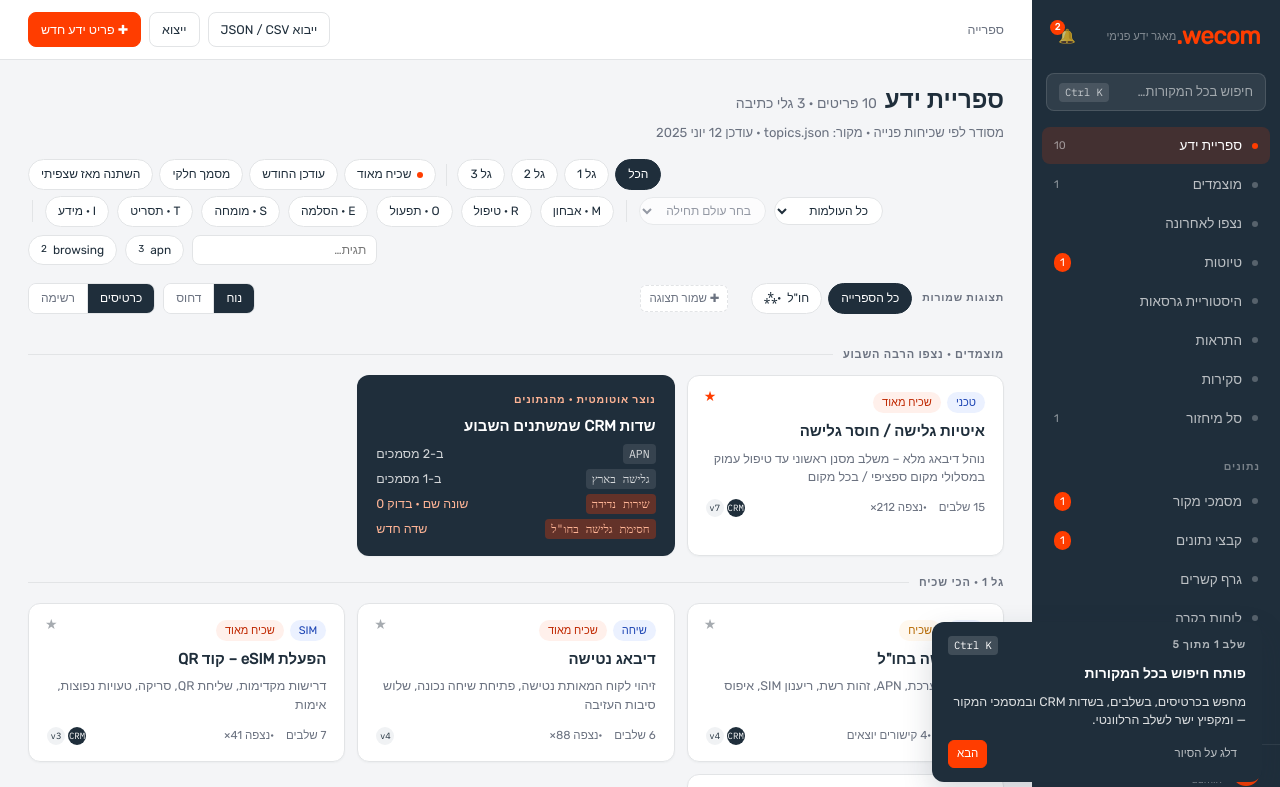
Scenario: <Palette> › shows the result stat footer
The image size is (1280, 787).
Type keys "{Control>}k{/Control}"
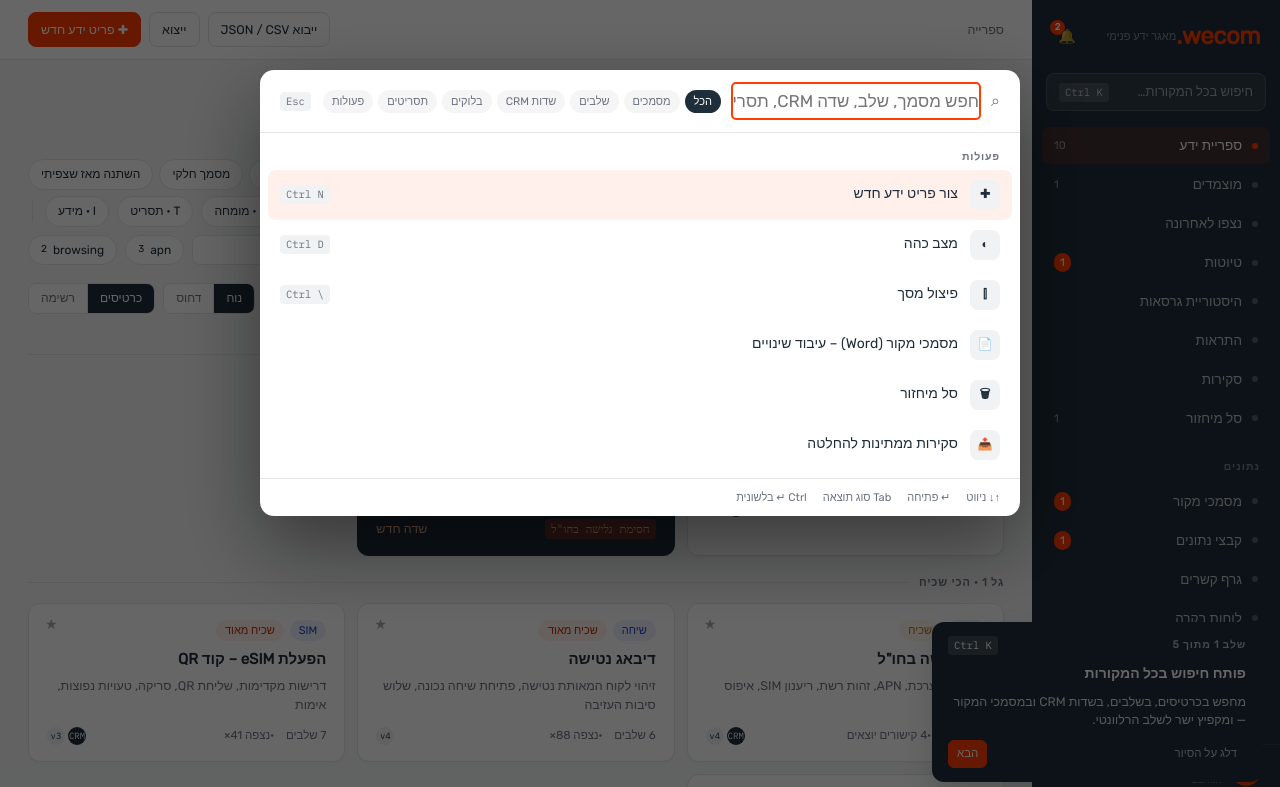
In the field with placeholder "חפש מסמך, שלב, שדה CRM, תסריט או פעולה…": (856, 101) [733,84,979,118], type "sim"
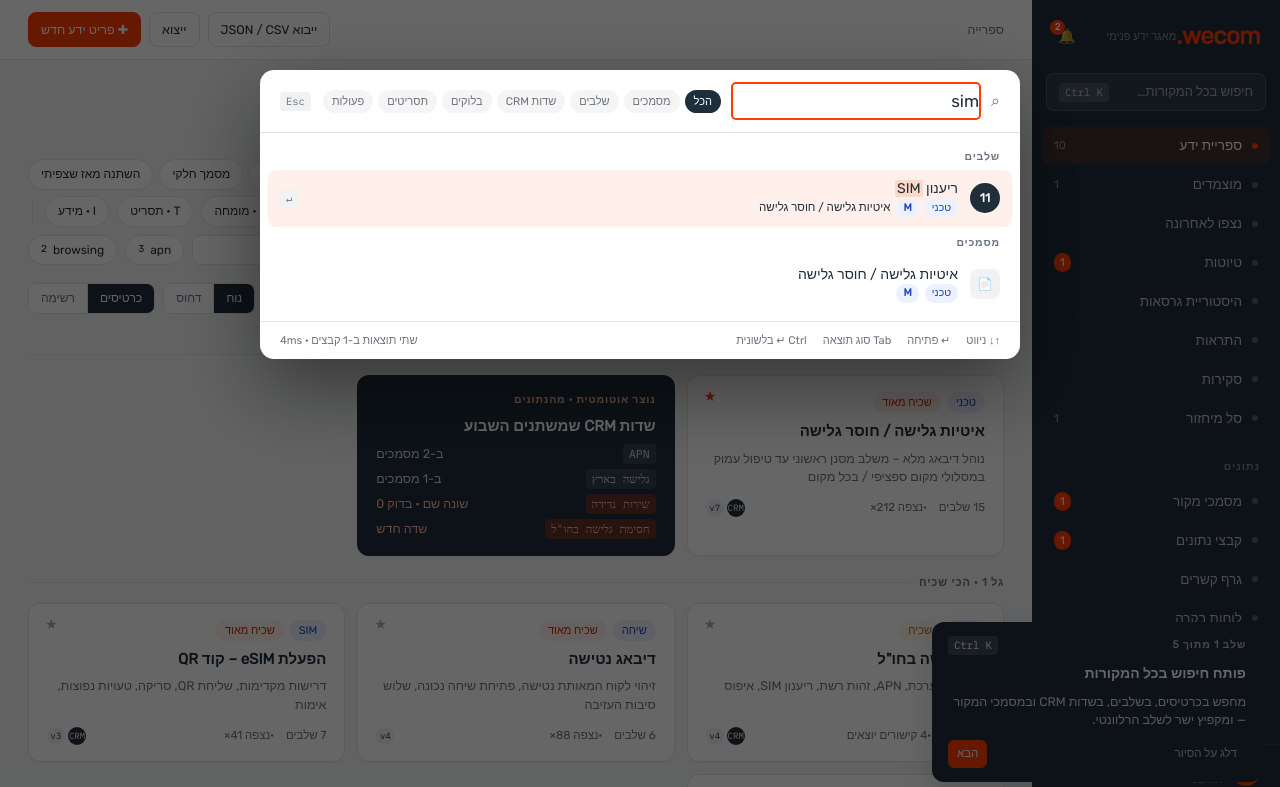
Result: the text with class "stat" shows "תוצאות" at [280,334,417,347]
